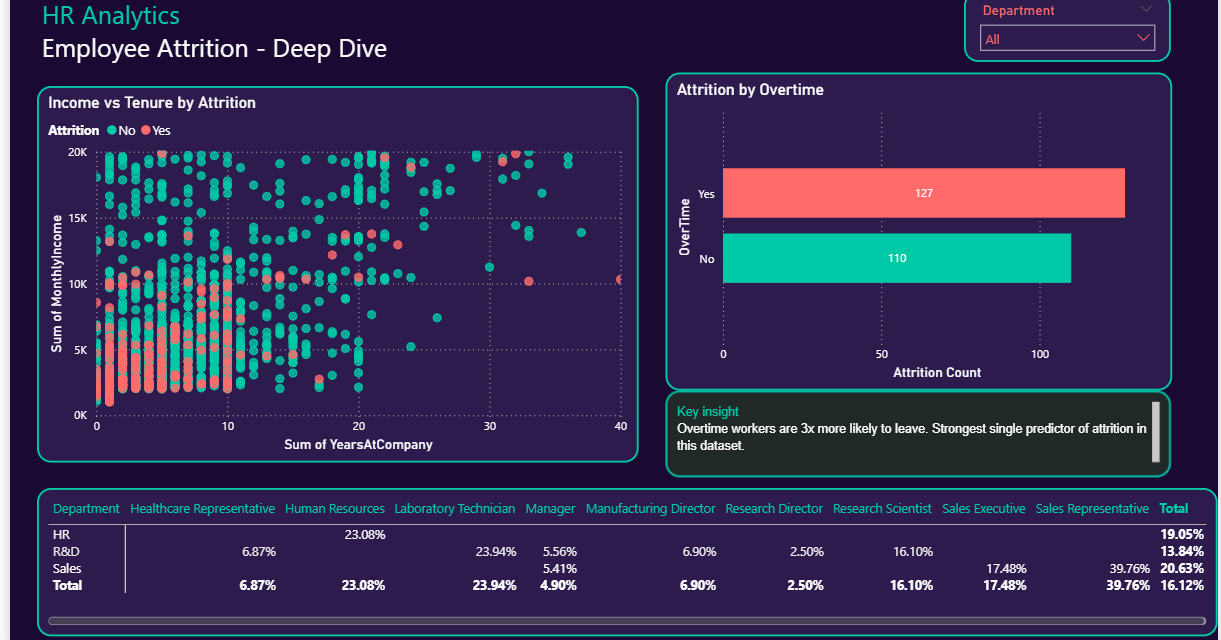

The page's visual inventory and layout, read from the dashboard file:
{"tool":"powerbi","page":{"name":"Deep dive","canvas":[1280,720],"ordinal":1},"visuals":[{"type":"scatterChart","title":"Income vs Tenure by Attrition","fields":{"X":["Sum(HR_Analytics.YearsAtCompany)"],"Y":["Sum(HR_Analytics.MonthlyIncome)"],"Series":["HR_Analytics.Attrition"],"Category":["HR_Analytics.EmployeeNumber"]},"box":[28.6,100.2,637.8,399.2],"z":0},{"type":"clusteredBarChart","title":"Attrition by Overtime","fields":{"Category":["HR_Analytics.OverTime"],"Y":["HR_Analytics.Attrition Rate"]},"box":[695.1,100.2,537.6,337.2],"z":2000},{"type":"slicer","fields":{"Values":["HR_Analytics.Department"]},"box":[1011.6,0,219.5,82.7],"z":4000},{"type":"pivotTable","fields":{"Rows":["HR_Analytics.Department"],"Columns":["HR_Analytics.JobRole"],"Values":["HR_Analytics.Attrition Rate"]},"box":[0,540.8,1280.4,130.4],"z":4001},{"type":"textbox","box":[695.1,437.4,536,103.4],"z":4002},{"type":"textbox","box":[28.6,14.3,413.6,85.9],"z":4003},{"type":"textbox","box":[14.3,671.2,299,49.3],"z":4004}]}

Visuals, with their boxes on the page's 1280x720 design canvas (x1, y1, x2, y2). These are canvas units, not pixel positions in the 1221x640 screenshot, which may show the page scaled, cropped or inside an application window:
"Income vs Tenure by Attrition" scatterChart: (left=29, top=100, right=666, bottom=499)
"Attrition by Overtime" clusteredBarChart: (left=695, top=100, right=1233, bottom=437)
slicer - HR_Analytics.Department: (left=1012, top=0, right=1231, bottom=83)
pivotTable - HR_Analytics.Department x HR_Analytics.JobRole: (left=0, top=541, right=1280, bottom=671)
textbox: (left=695, top=437, right=1231, bottom=541)
textbox: (left=29, top=14, right=442, bottom=100)
textbox: (left=14, top=671, right=313, bottom=720)
